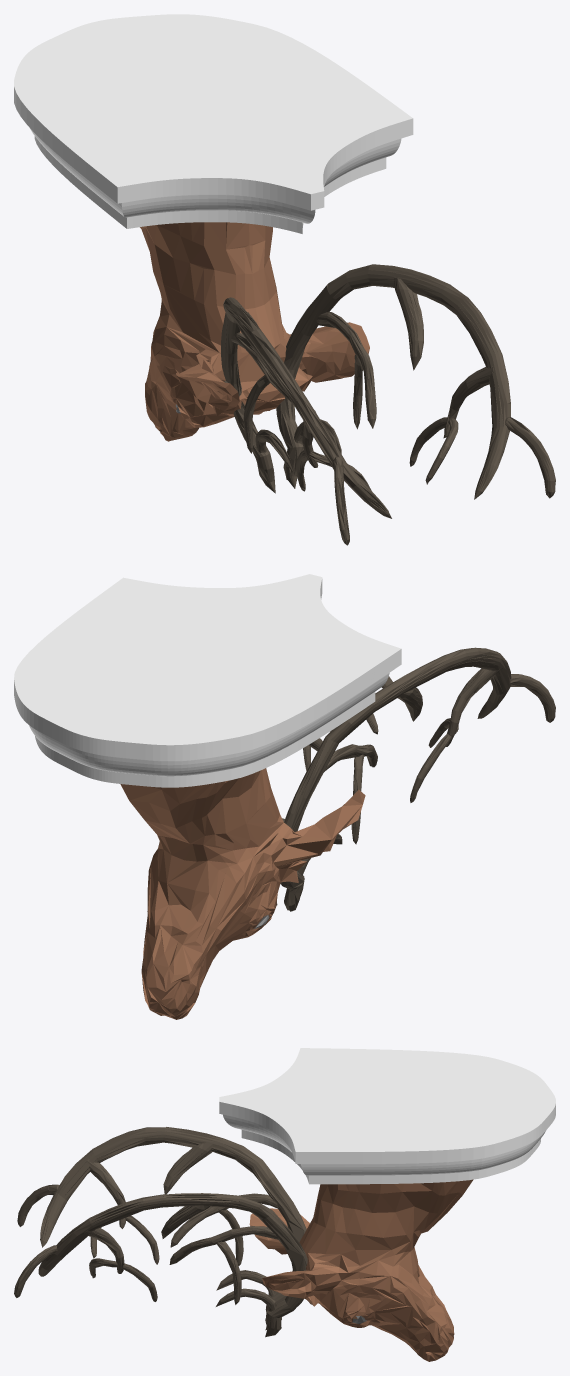
The picture shows the model from 3 angles, top to bottom: view 1: azimuth 30°, elevation 25°; view 2: azimuth 150°, elevation 25°; view 3: azimuth 270°, elevation 25°; orthographic projection. The views are drawn at different scales.
Visible parts, largest first — view 1: deer trophy; view 2: deer trophy; view 3: deer trophy.
Part boxes in pixels (x1,y1,x2,y2): deer trophy: (14, 14, 555, 545); deer trophy: (14, 574, 555, 1019); deer trophy: (14, 1048, 555, 1361).
Bounding box in the file's own units: 19.75 × 22.79 × 43.45.
